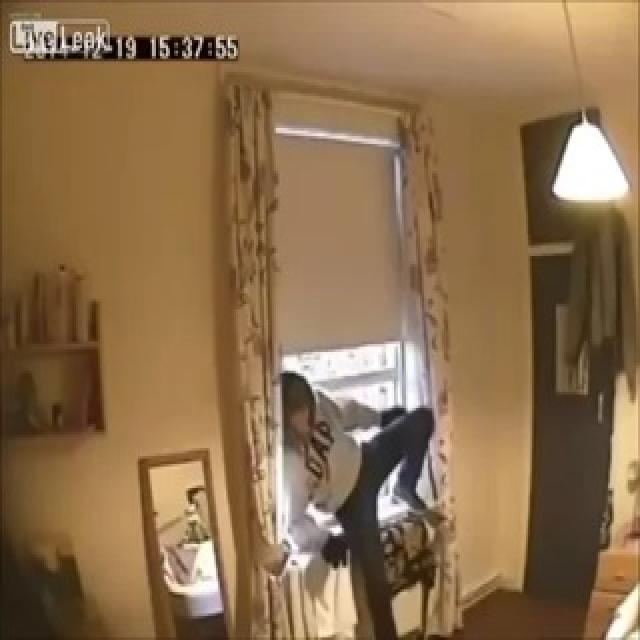thief: (268, 356, 332, 466)
